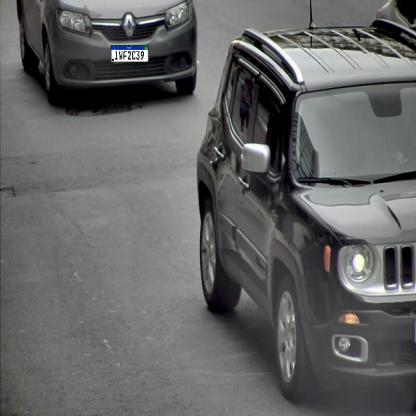PlacaM: (110, 45, 148, 62)
